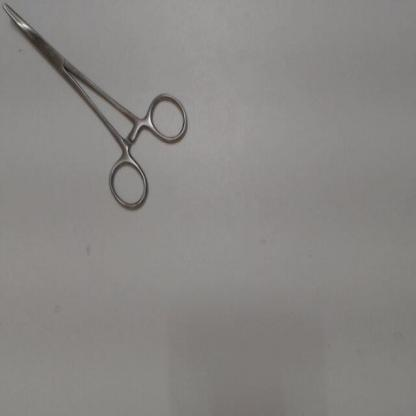Crile Artery Forceps: (1, 1, 191, 218)
